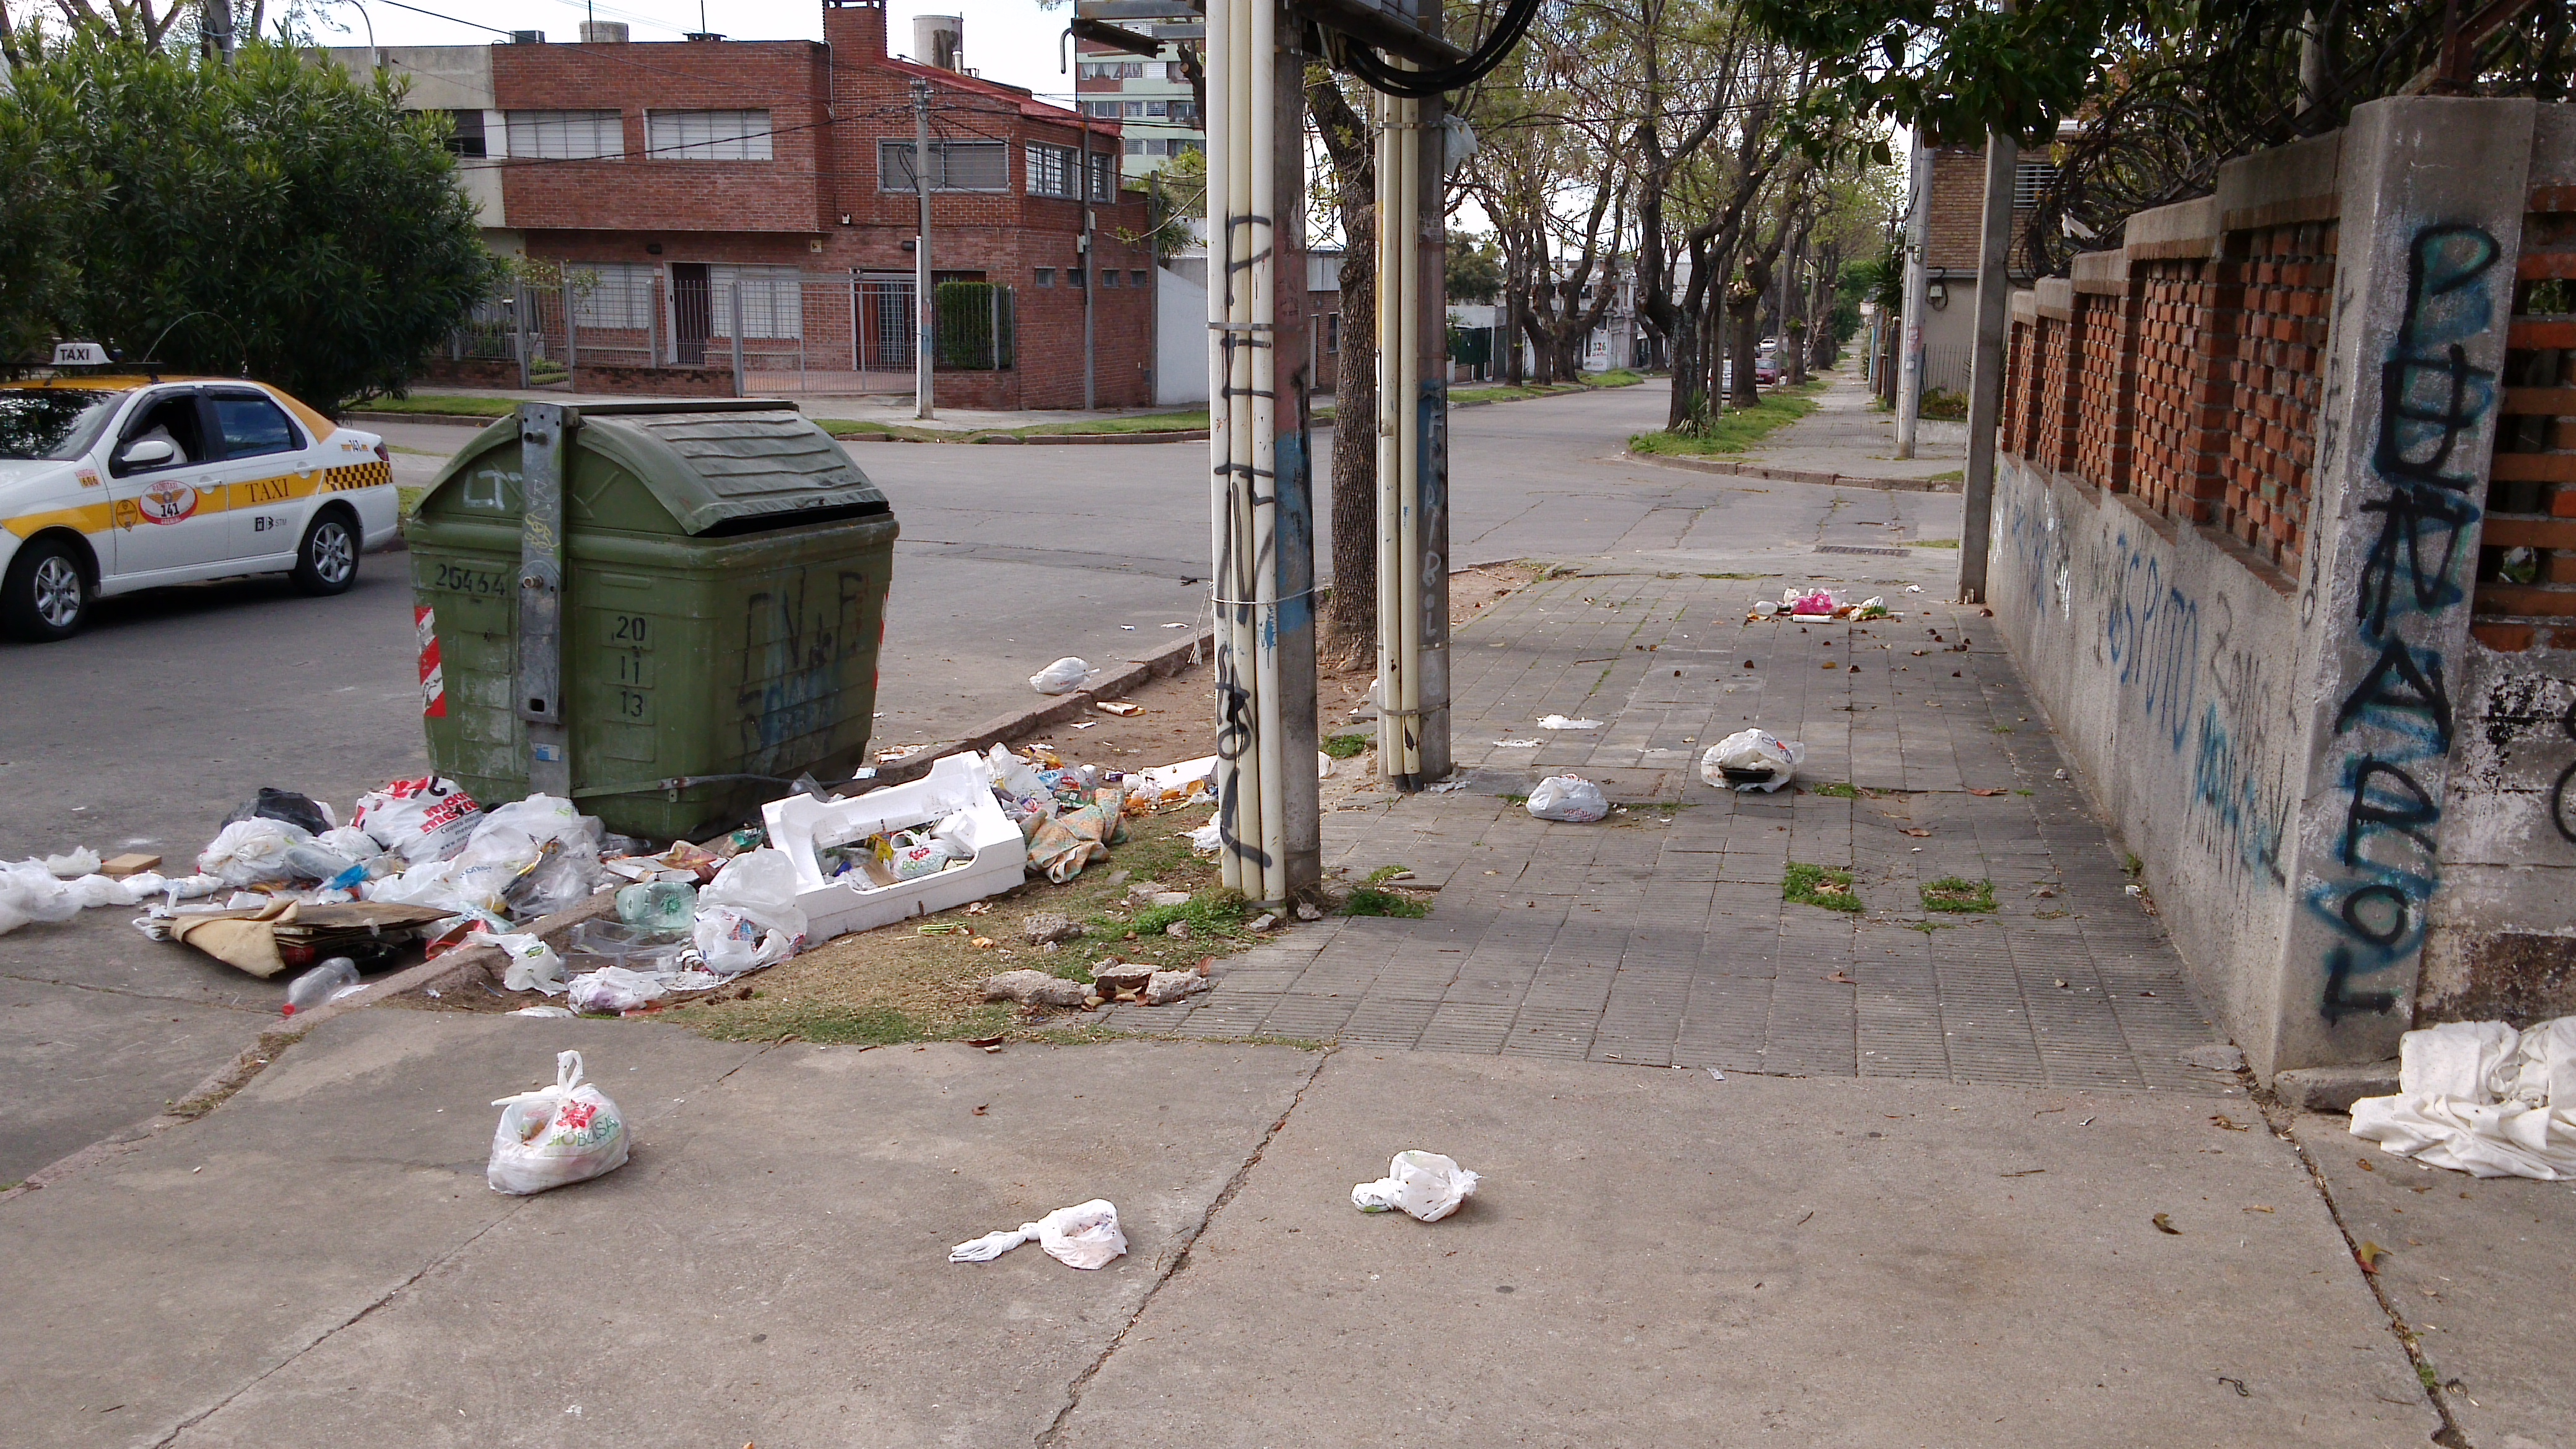container: (396, 382, 908, 865)
